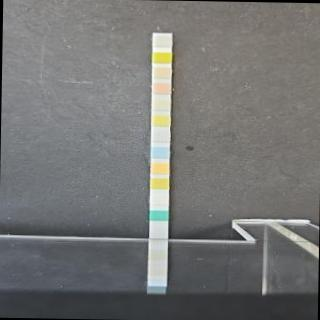mark: (150, 112, 170, 126), (151, 144, 168, 158), (152, 51, 170, 64), (153, 34, 170, 47), (150, 195, 168, 207), (150, 177, 168, 189), (150, 162, 168, 174), (152, 130, 170, 142), (152, 98, 169, 110), (152, 82, 169, 94), (153, 67, 170, 79), (150, 210, 168, 220)
